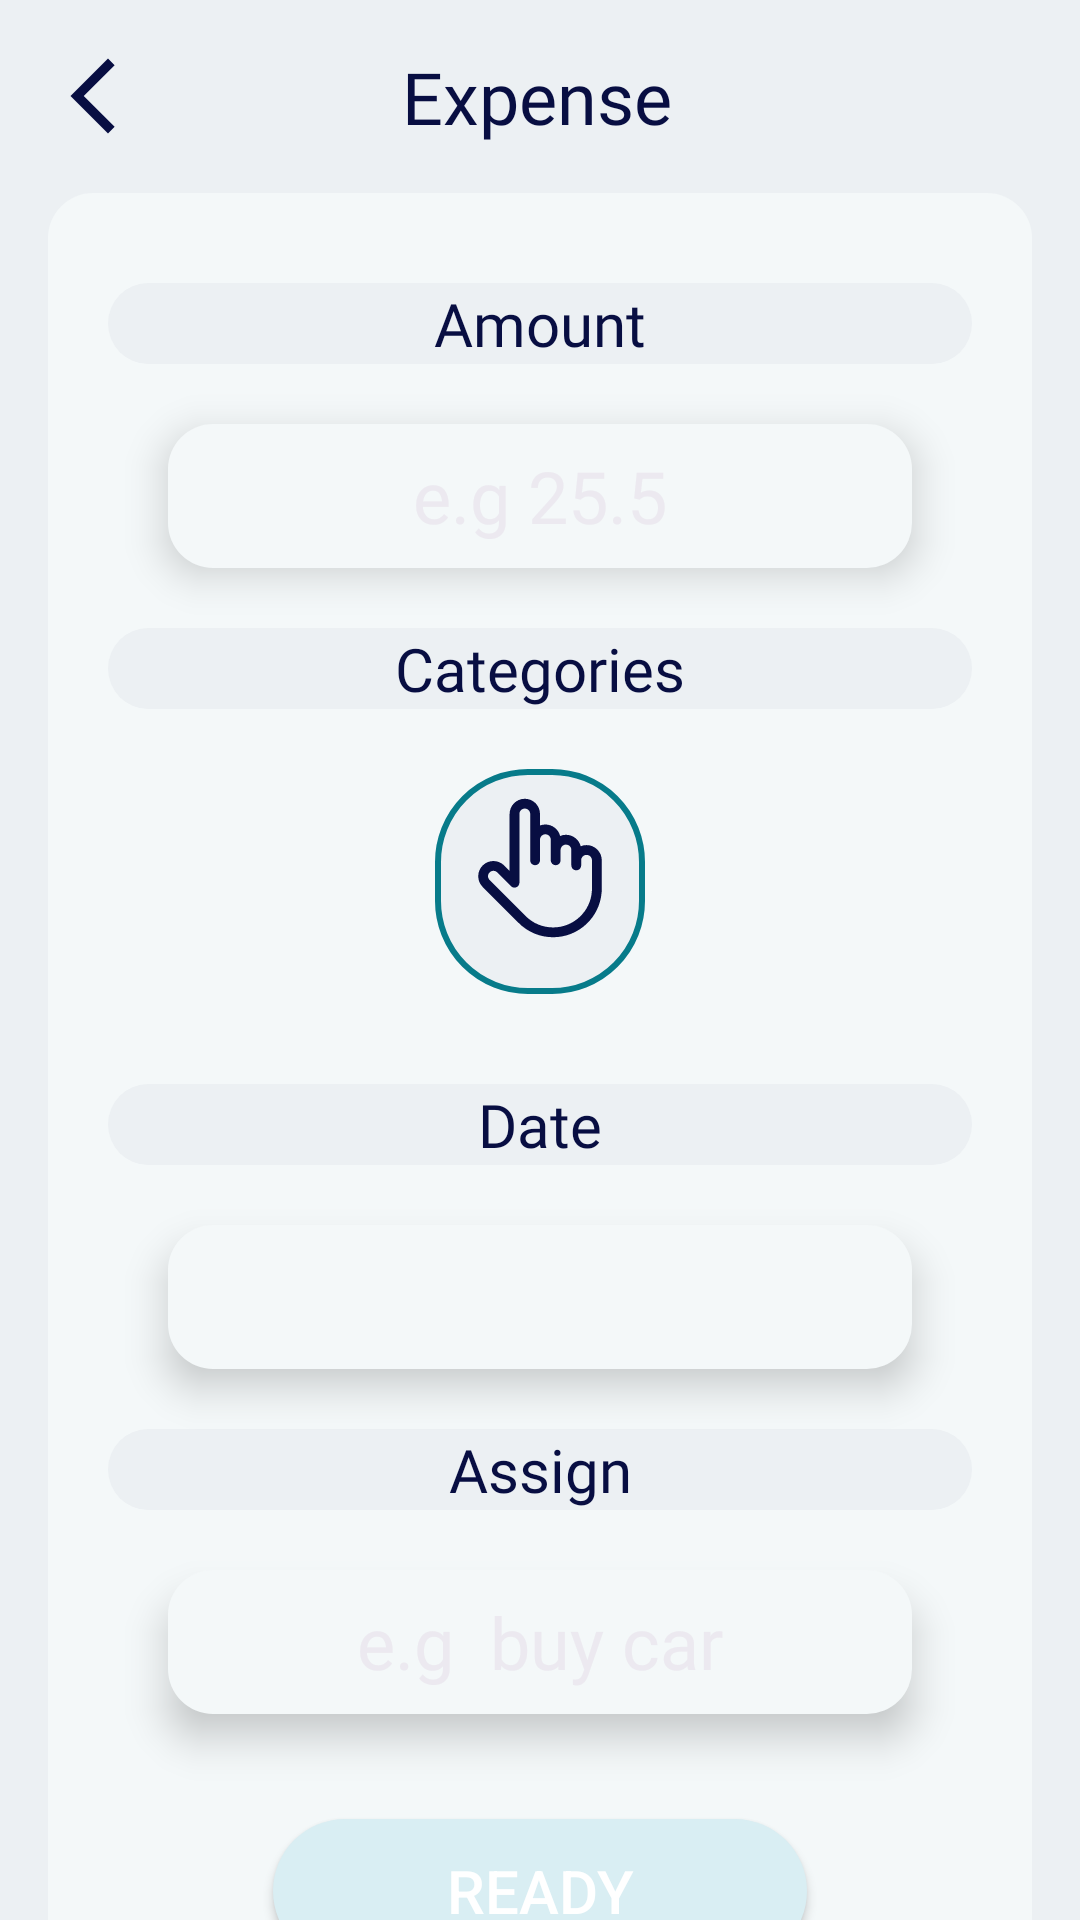

Icons on this 1080px×1920px Android screen, each with the point to tap as (x,y):
back: (92,96)
select: (540,881)
